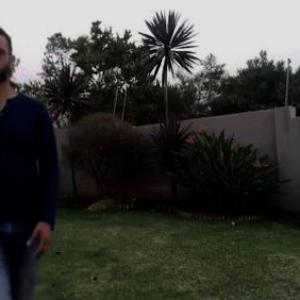follow: (1, 42, 62, 299)
